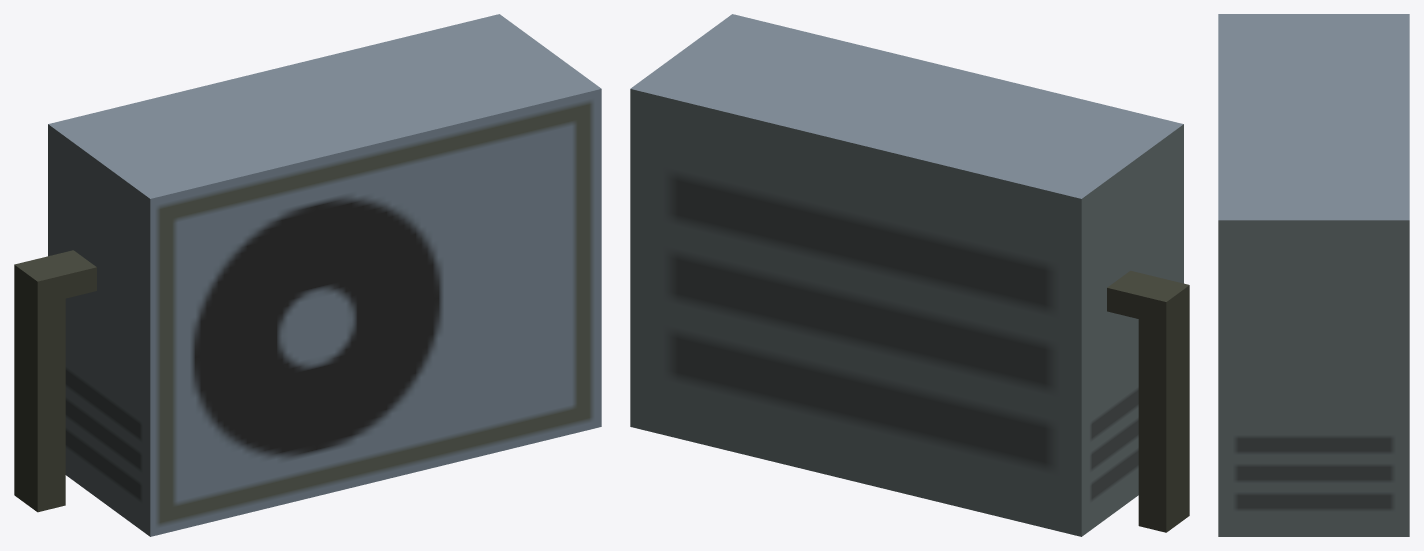
Rendered from SM_Roof_AirConditioner_01.fbx.
3 views of the same model, side by side, from view 1: azimuth 30°, elevation 25°; view 2: azimuth 150°, elevation 25°; view 3: azimuth 270°, elevation 25° (orthographic). The views are drawn at different scales.
Visible parts, largest first — view 1: SM_Roof_AirConditioner_01; view 2: SM_Roof_AirConditioner_01; view 3: SM_Roof_AirConditioner_01.
Part boxes in pixels (x1,y1,x2,y2): SM_Roof_AirConditioner_01: (14, 14, 601, 536); SM_Roof_AirConditioner_01: (630, 14, 1189, 536); SM_Roof_AirConditioner_01: (1218, 14, 1409, 536).
Bounding box in the file's own units: 1.38 × 0.8743 × 0.4793.
